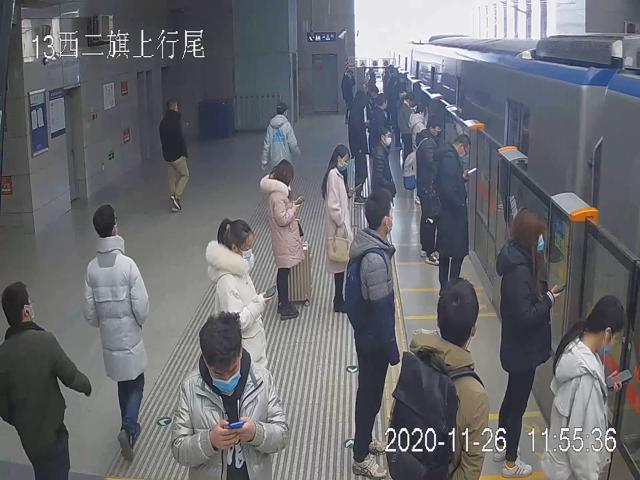person: (391, 276, 492, 480), (169, 309, 287, 480), (2, 281, 90, 480), (495, 208, 558, 480), (84, 204, 150, 460), (347, 186, 401, 480), (543, 292, 624, 479), (204, 217, 270, 369), (260, 160, 304, 319), (435, 134, 472, 296), (322, 145, 355, 315), (415, 115, 443, 265), (159, 99, 190, 212), (370, 125, 399, 202)
